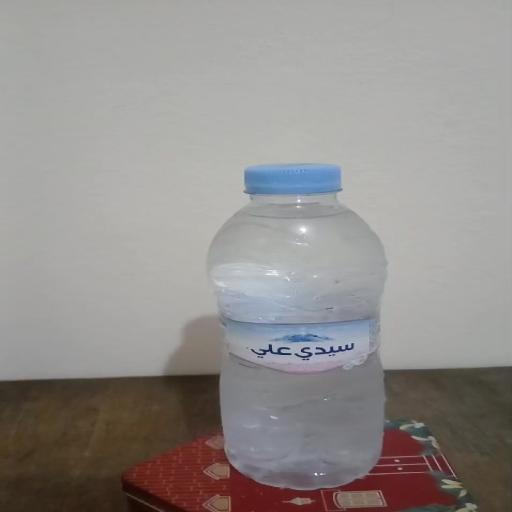bouteille conformite: (198, 158, 397, 492)
